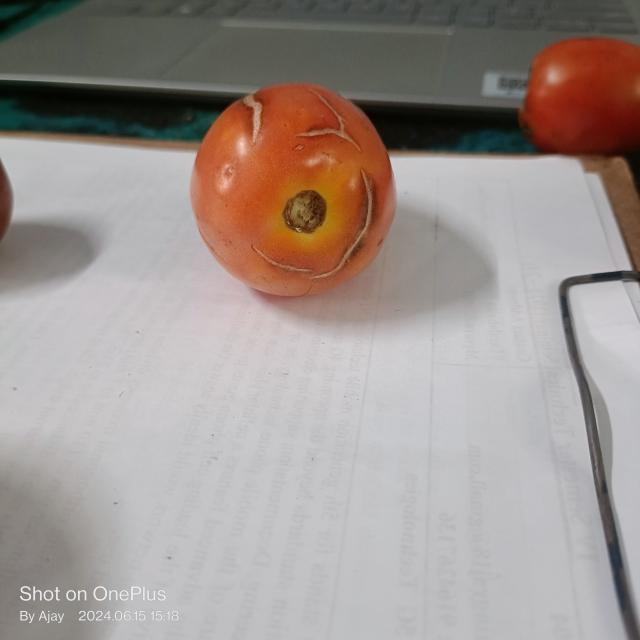tomato_cracking: (251, 88, 363, 149), (325, 183, 384, 273), (246, 243, 325, 267)
